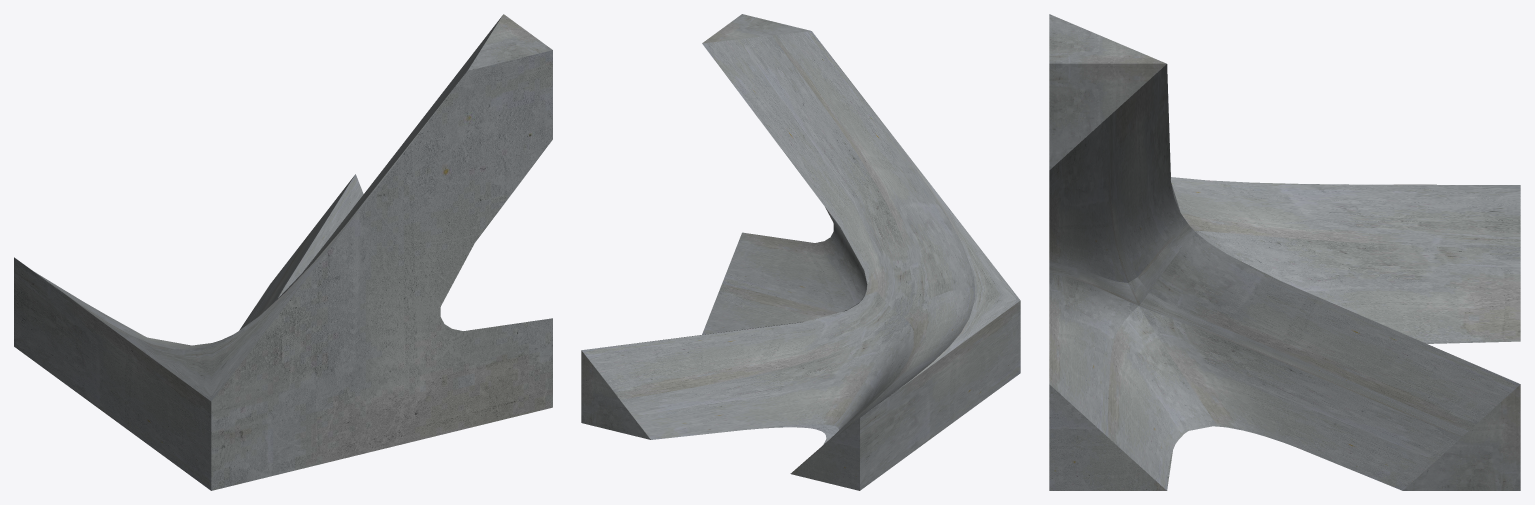
File: module_N4.fbx
The picture shows the model from 3 angles, left to right: view 1: azimuth 30°, elevation 25°; view 2: azimuth 150°, elevation 25°; view 3: azimuth 270°, elevation 25°; orthographic projection. The views are drawn at different scales.
Parts seen in each view (by area): view 1: modules; view 2: modules; view 3: modules.
Boxes of the visible parts, x1=… form: modules: x1=14, y1=14, x2=552, y2=490; modules: x1=581, y1=14, x2=1020, y2=490; modules: x1=1049, y1=14, x2=1520, y2=490.
Bounding box in the file's own units: 1000 × 1000 × 1000.
Materials: 1 (1 with a texture image).
